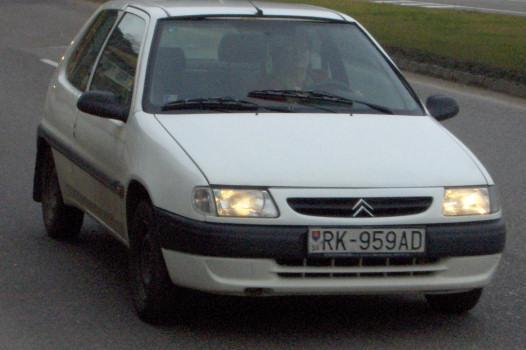placa de veiculo: (295, 216, 437, 264)
